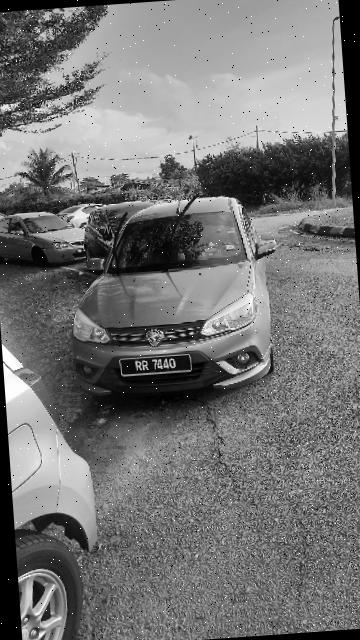License_Plate: (109, 348, 195, 382)
car: (57, 189, 288, 407), (1, 199, 98, 269)
